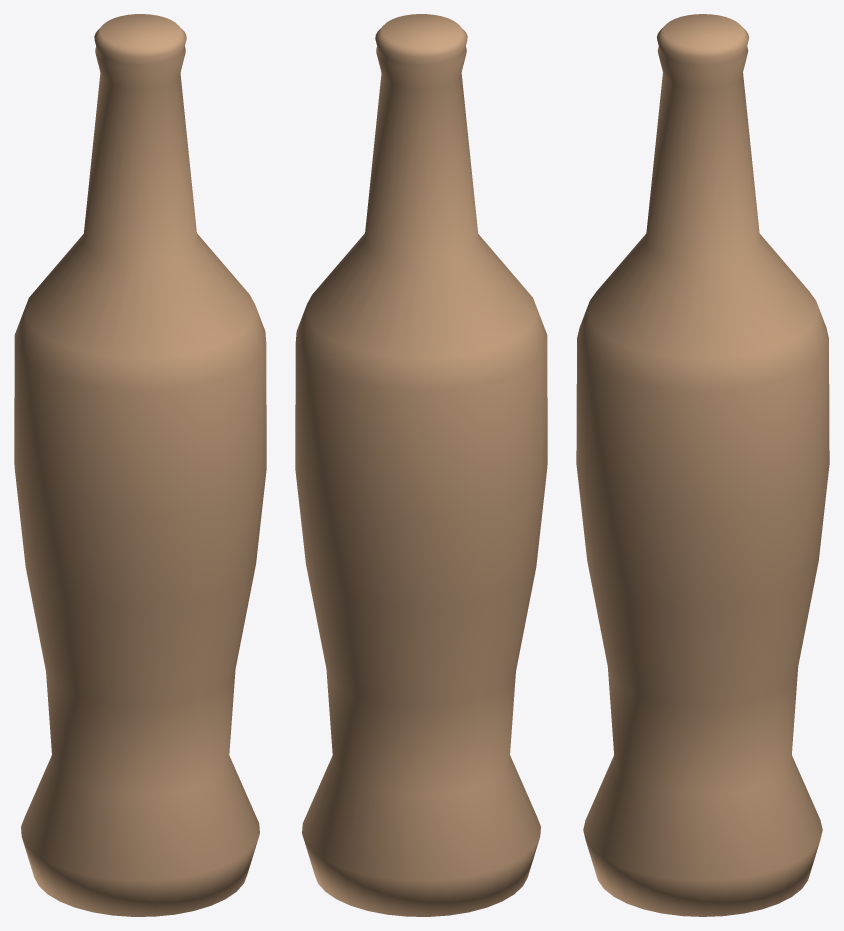
Rendered from glass_bottle.glb.
The picture shows the model from 3 angles, left to right: view 1: azimuth 30°, elevation 25°; view 2: azimuth 150°, elevation 25°; view 3: azimuth 270°, elevation 25°; orthographic projection.
Parts seen in each view (by area): view 1: Cylinder; view 2: Cylinder; view 3: Cylinder.
Boxes of the visible parts, bbox=[...] form: Cylinder: bbox=[14, 14, 266, 916]; Cylinder: bbox=[295, 14, 547, 916]; Cylinder: bbox=[576, 14, 829, 916].
Bounding box in the file's own units: 0.1051 × 0.3851 × 0.1051.
Materials: 1 (1 with a texture image).
